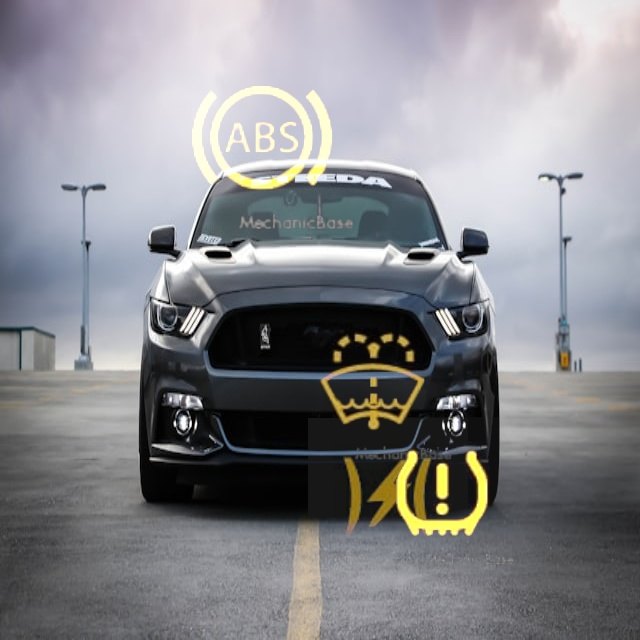symbol: (161, 39, 361, 239), (289, 299, 458, 468), (308, 418, 468, 578), (365, 417, 520, 572)
